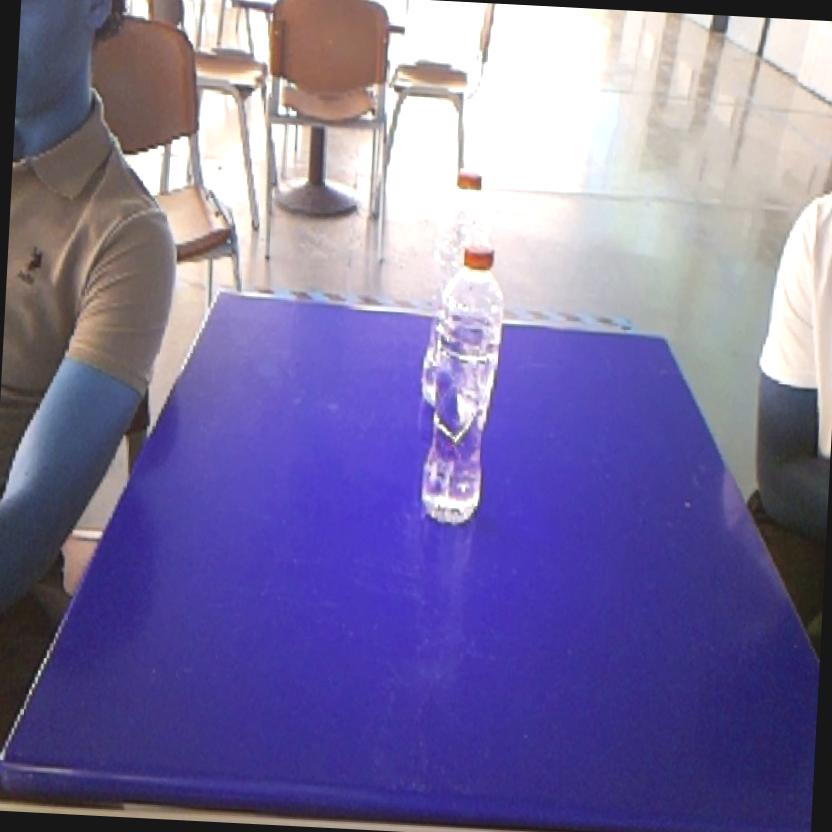no_label: (412, 239, 520, 538), (432, 151, 506, 249)
